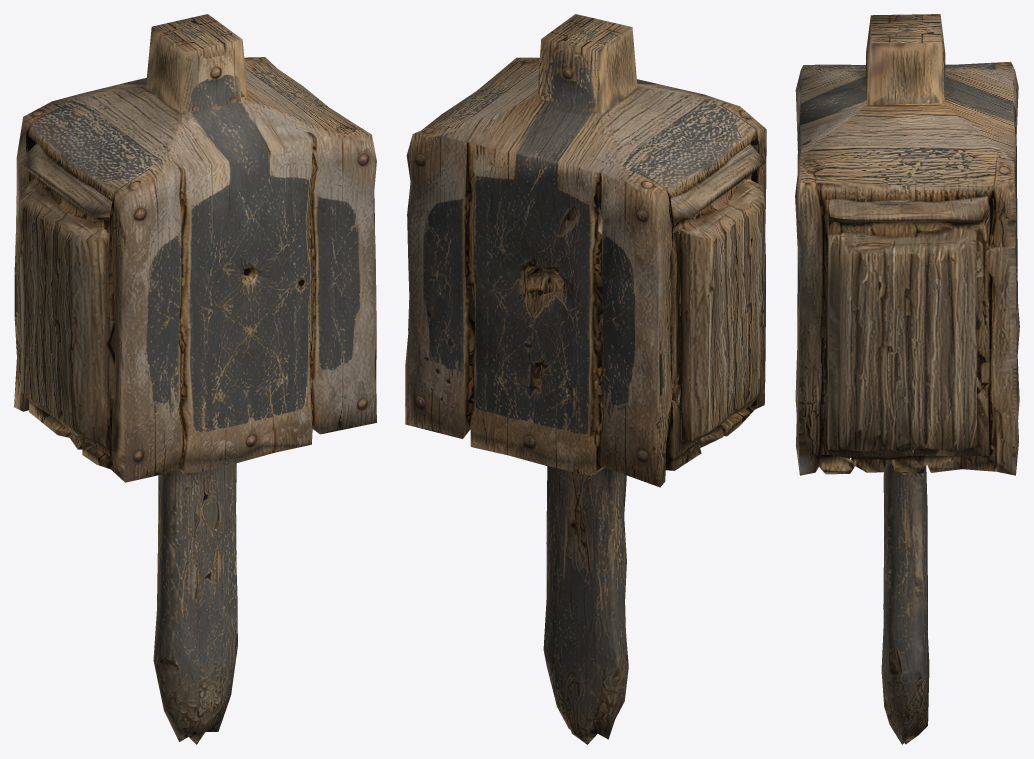
Rendered from SM_PR_Target_Varco.fbx.
The picture shows the model from 3 angles, left to right: view 1: azimuth 30°, elevation 25°; view 2: azimuth 150°, elevation 25°; view 3: azimuth 270°, elevation 25°; orthographic projection.
Parts seen in each view (by area): view 1: texture_mapping; view 2: texture_mapping; view 3: texture_mapping.
Part boxes in pixels (box(x1,y1,x2,y2)): texture_mapping: box(14, 14, 376, 744); texture_mapping: box(405, 14, 766, 744); texture_mapping: box(795, 14, 1019, 744).
Size of the model in its own units: 0.4462 by 0.2845 by 1.
1 material, 1 textured.
